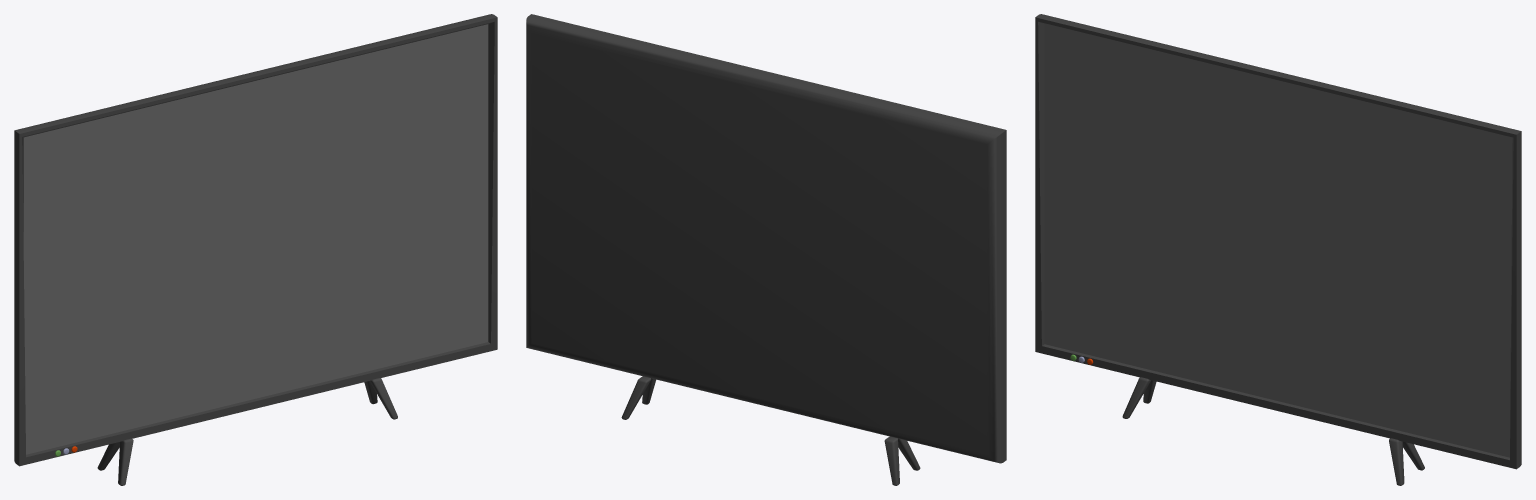
Rendered from Screen_1C.fbx.
3 renders of one model, left to right at view 1: azimuth 30°, elevation 25°; view 2: azimuth 150°, elevation 25°; view 3: azimuth 330°, elevation 25°, orthographic.
Parts seen in each view (by area): view 1: Screen_1C; view 2: Screen_1C; view 3: Screen_1C.
Boxes of the visible parts, x1,y1,x2,y2 form: Screen_1C: (14, 14, 497, 485); Screen_1C: (526, 14, 1006, 485); Screen_1C: (1035, 14, 1521, 485).
Size of the model in its own units: 1.08 by 0.7996 by 0.0941.
